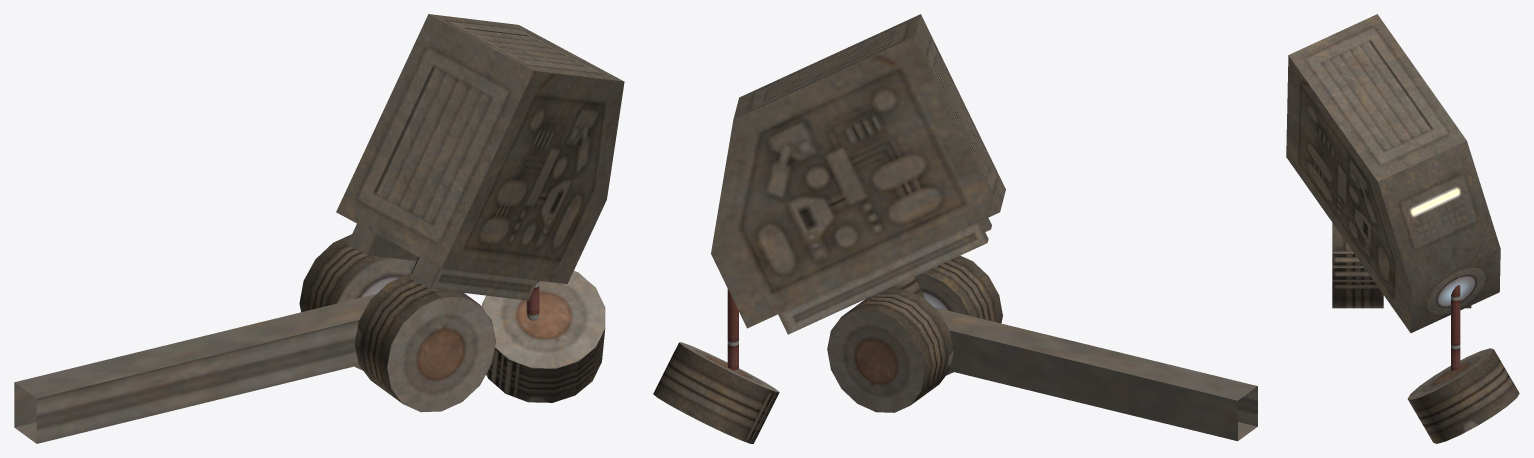
Rendered from camera-broken.fbx.
The picture shows the model from 3 angles, left to right: view 1: azimuth 30°, elevation 25°; view 2: azimuth 150°, elevation 25°; view 3: azimuth 270°, elevation 25°; orthographic projection. The views are drawn at different scales.
Parts seen in each view (by area): view 1: Mesh; view 2: Mesh; view 3: Mesh.
Boxes of the visible parts, x1,y1,x2,y2 form: Mesh: [14, 14, 624, 443]; Mesh: [653, 14, 1257, 443]; Mesh: [1286, 14, 1519, 443].
Bounding box in the file's own units: 60.41 × 42.8 × 25.07.
